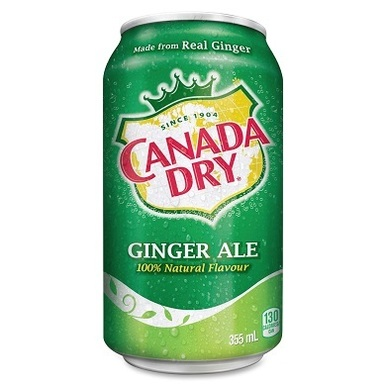Lata: (102, 8, 286, 378)
